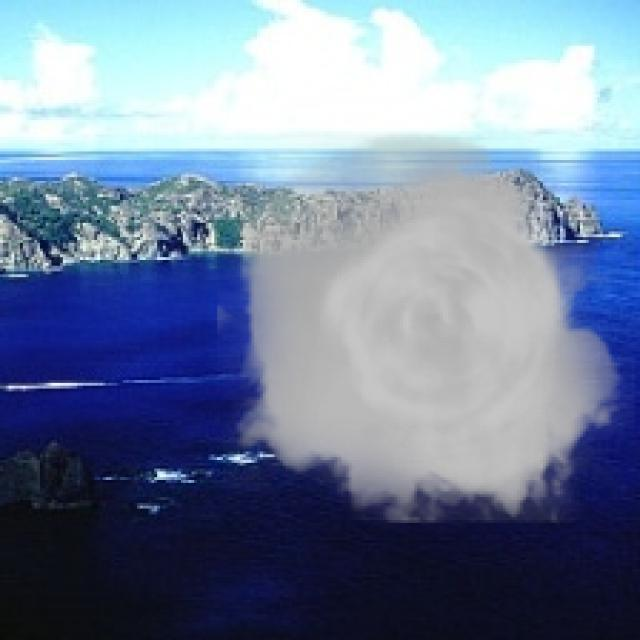Smoke: (217, 131, 634, 523)
